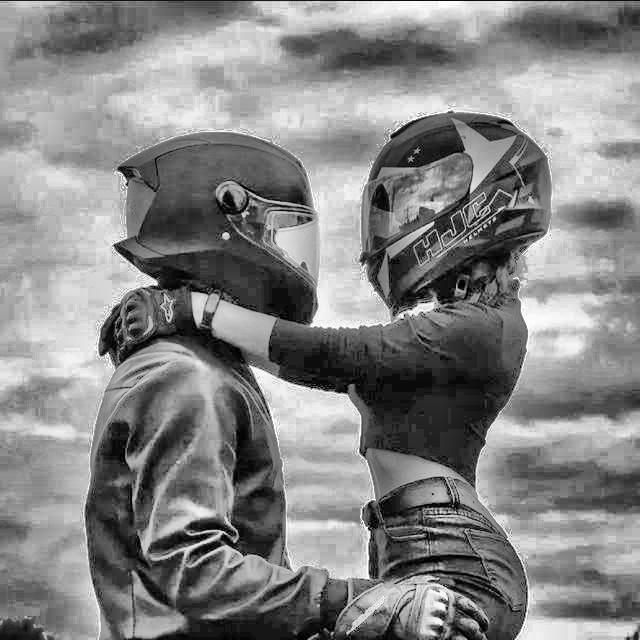Helmet: (352, 106, 558, 328), (106, 125, 322, 328)
